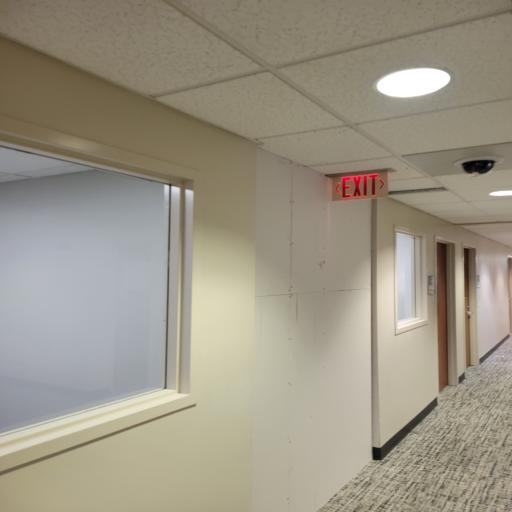camera: (406, 147, 512, 178)
exit sign: (322, 168, 406, 204)
